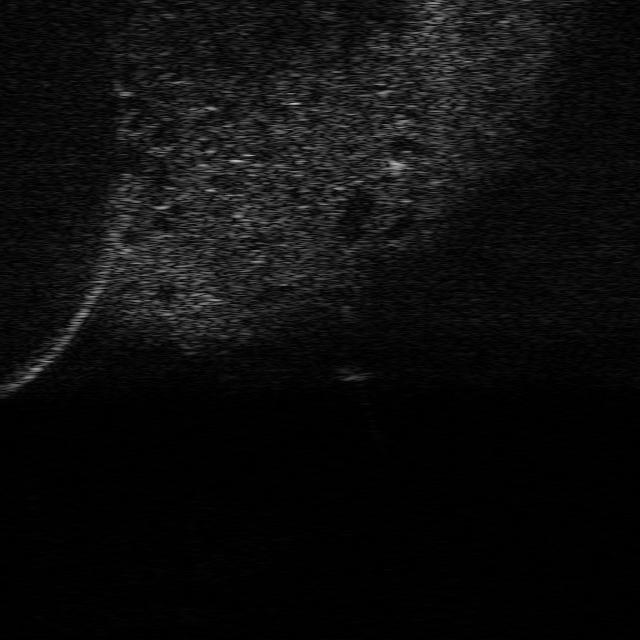cube: (336, 364, 374, 384)
cylinder: (339, 302, 359, 325)
